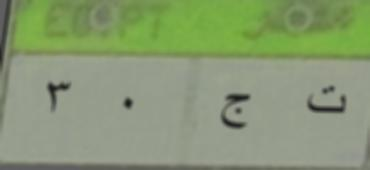0: (109, 82, 146, 123)
3: (42, 74, 80, 119)
jeem: (219, 85, 254, 140)
taa: (305, 82, 352, 122)
